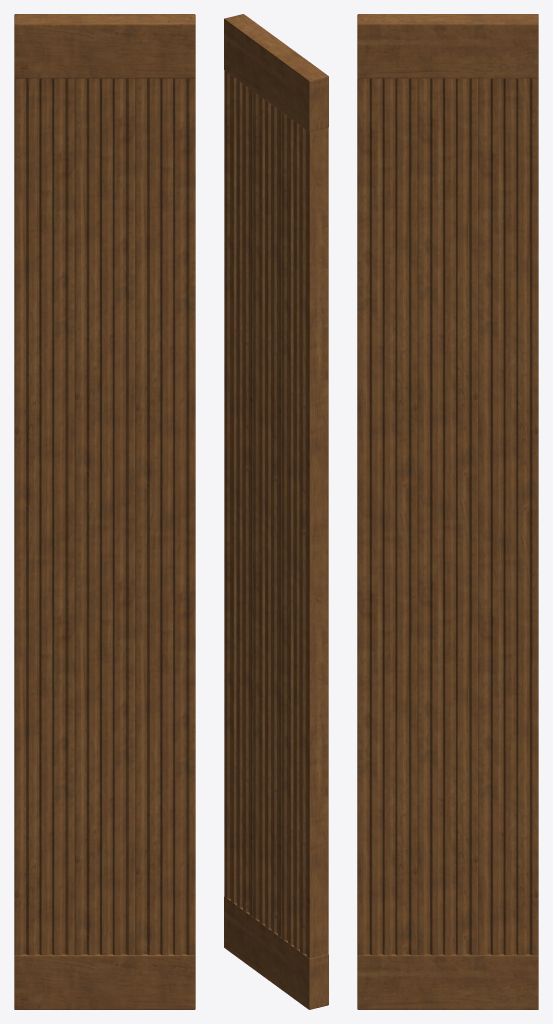
The model's file is SM_Office_wall01p.fbx.
The picture shows the model from 3 angles, left to right: view 1: azimuth 90°, elevation 25°; view 2: azimuth 210°, elevation 25°; view 3: azimuth 270°, elevation 25°; orthographic projection. The views are drawn at different scales.
Parts seen in each view (by area): view 1: SM_Office_wall01p_LOD0; view 2: SM_Office_wall01p_LOD0; view 3: SM_Office_wall01p_LOD0.
Part boxes in pixels (bbox=[...]): SM_Office_wall01p_LOD0: bbox=[14, 14, 195, 1009]; SM_Office_wall01p_LOD0: bbox=[224, 14, 328, 1009]; SM_Office_wall01p_LOD0: bbox=[357, 14, 538, 1009].
Bounding box in the file's own units: 20.27 × 150 × 900.
